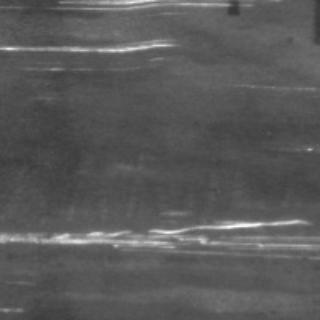scratches: (0, 211, 316, 265), (1, 34, 178, 58)
